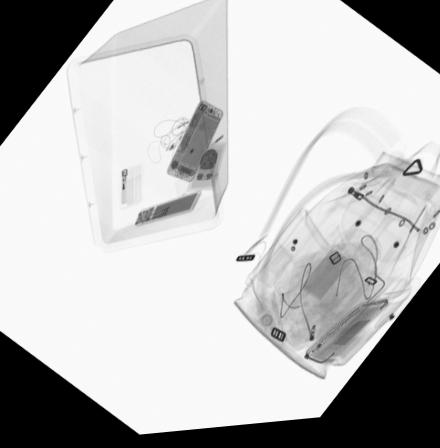Lighter: (118, 169, 129, 212)
